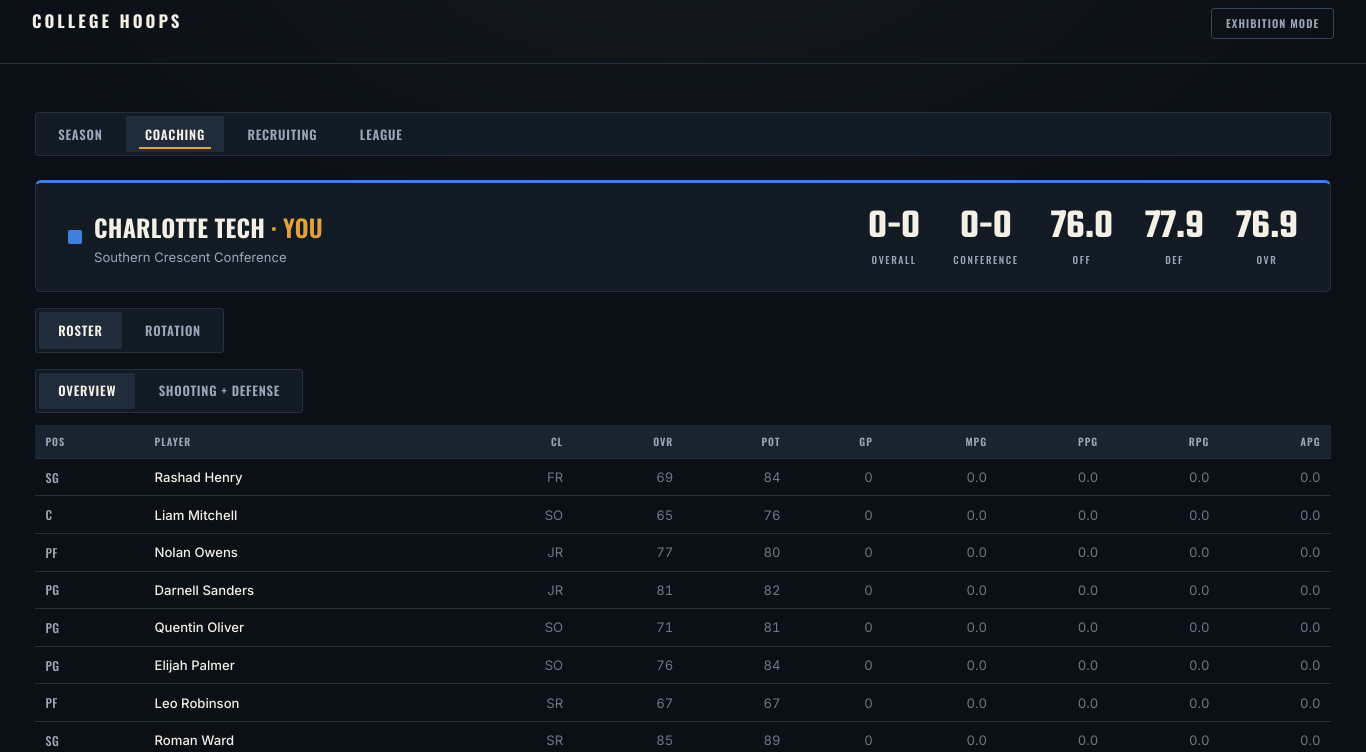
Test: Coaching Rotation — Simple / Advanced › defaults to the Simple editor when opening Coaching → Rotation
Step 1. Click the button "Rotation" → coordinates (173, 330), box top-left (126, 312), bottom-right (220, 349)
(page scrolled)
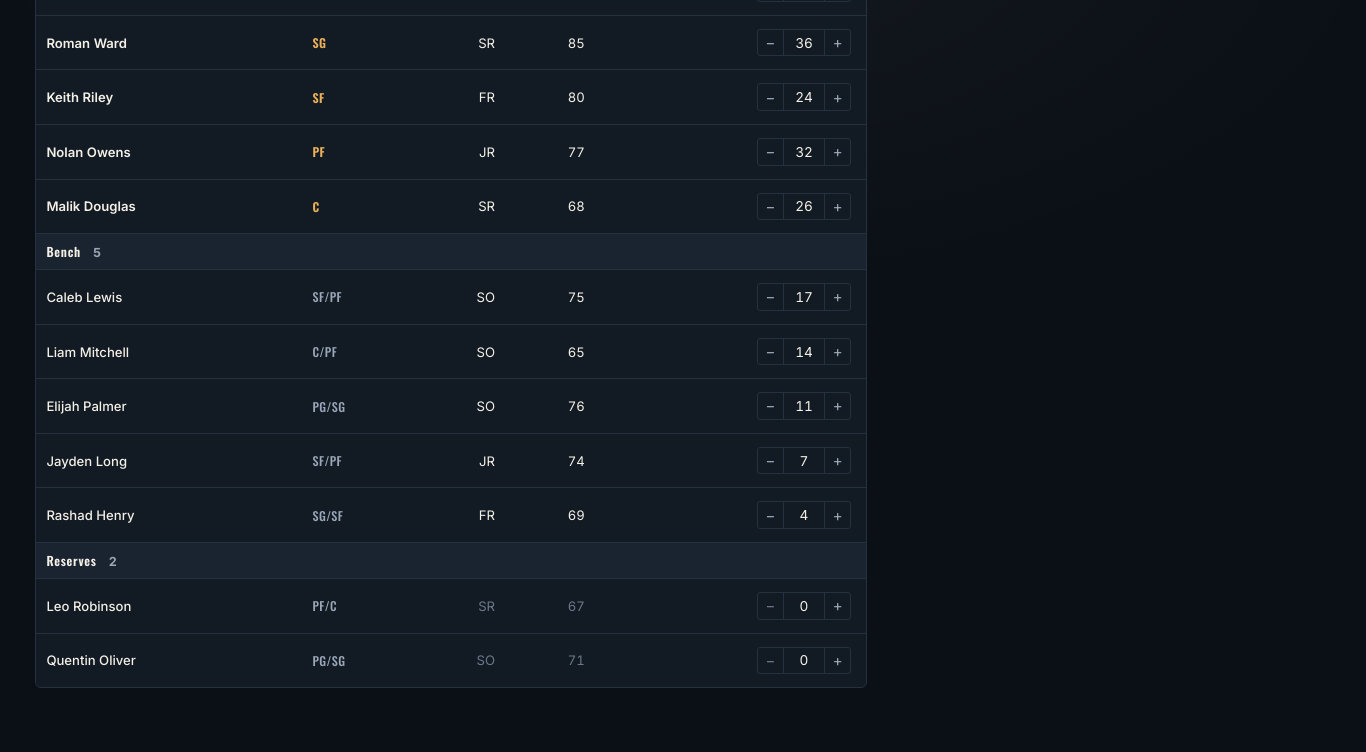
expect the text "Bench" is shown: met, box top-left (46, 242), bottom-right (81, 261)
expect the text "Reserves" is shown: met, box top-left (46, 551), bottom-right (97, 570)
